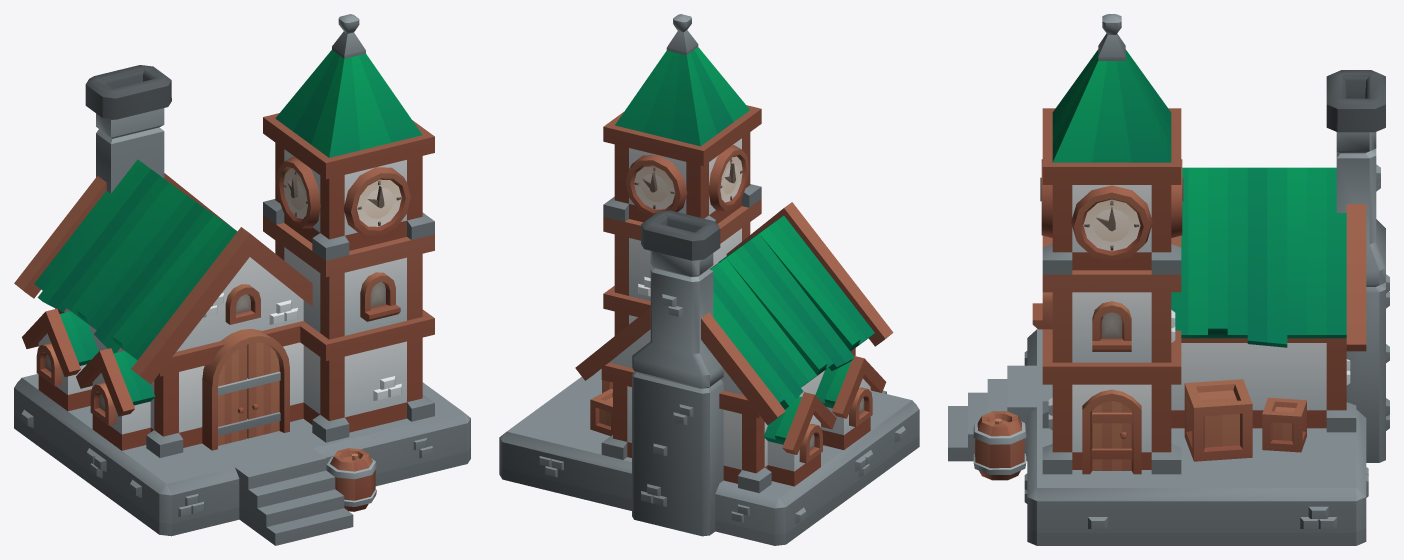
The model's file is townhall_green.glb.
3 renders of one model, left to right at view 1: azimuth 30°, elevation 25°; view 2: azimuth 150°, elevation 25°; view 3: azimuth 270°, elevation 25°, orthographic. The views are drawn at different scales.
Visible parts, largest first — view 1: townhall_green; view 2: townhall_green; view 3: townhall_green.
Part boxes in pixels (x1=…): townhall_green: x1=14, y1=14, x2=470, y2=545; townhall_green: x1=499, y1=14, x2=919, y2=545; townhall_green: x1=948, y1=14, x2=1389, y2=545.
Size of the model in its own units: 0.7175 by 0.9431 by 0.7818.
1 material, 1 textured.
